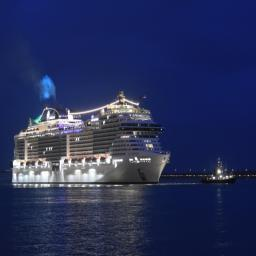cruises: (10, 92, 172, 189)
